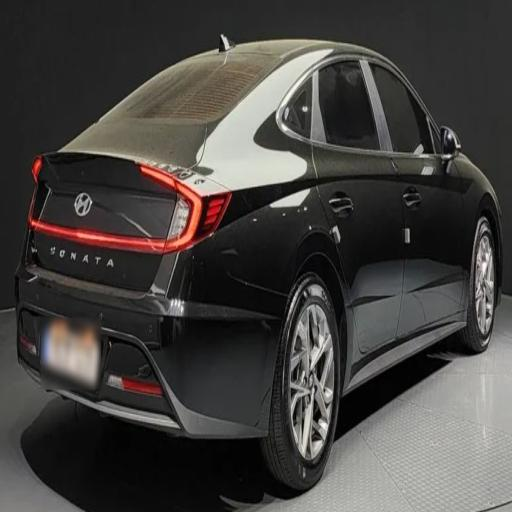normal: (21, 18, 508, 496)
